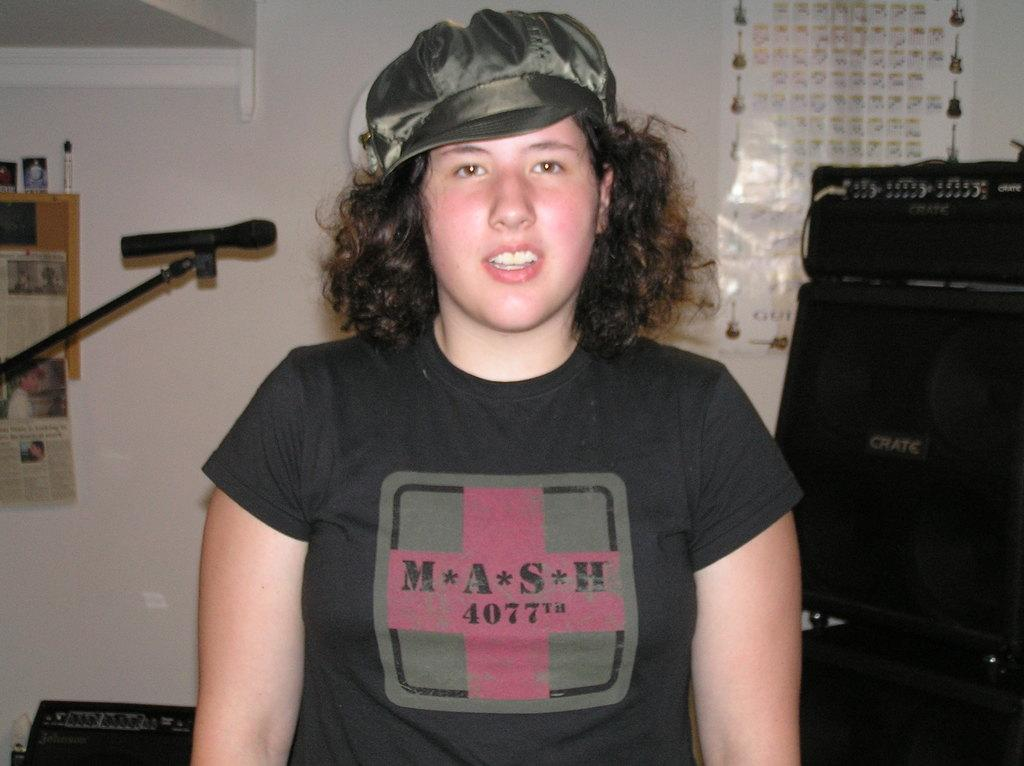Hat: (362, 6, 614, 188)
